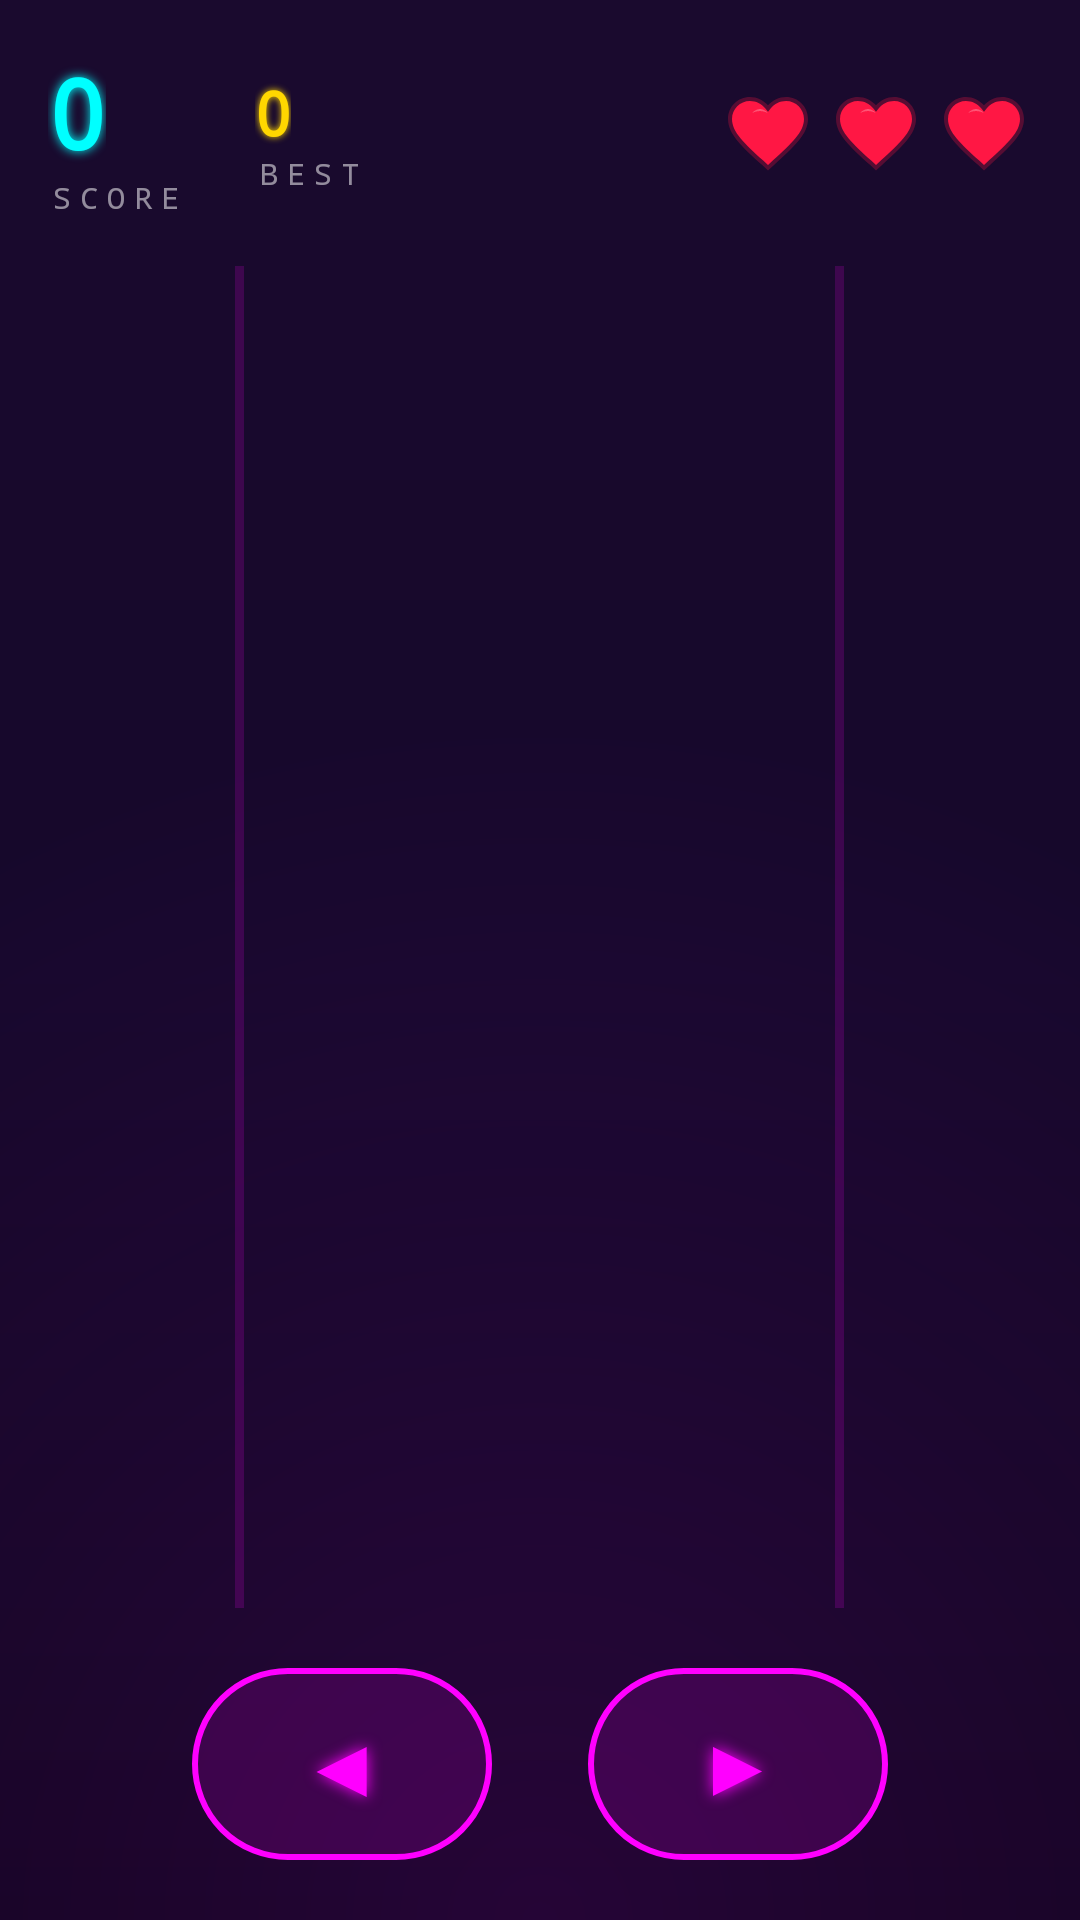

Icons on this 1080px x 1920px Android screen, each with its box as (x1, y1, x2, y2):
life1: (728, 97, 808, 170)
life2: (836, 97, 916, 170)
life3: (944, 97, 1024, 170)
